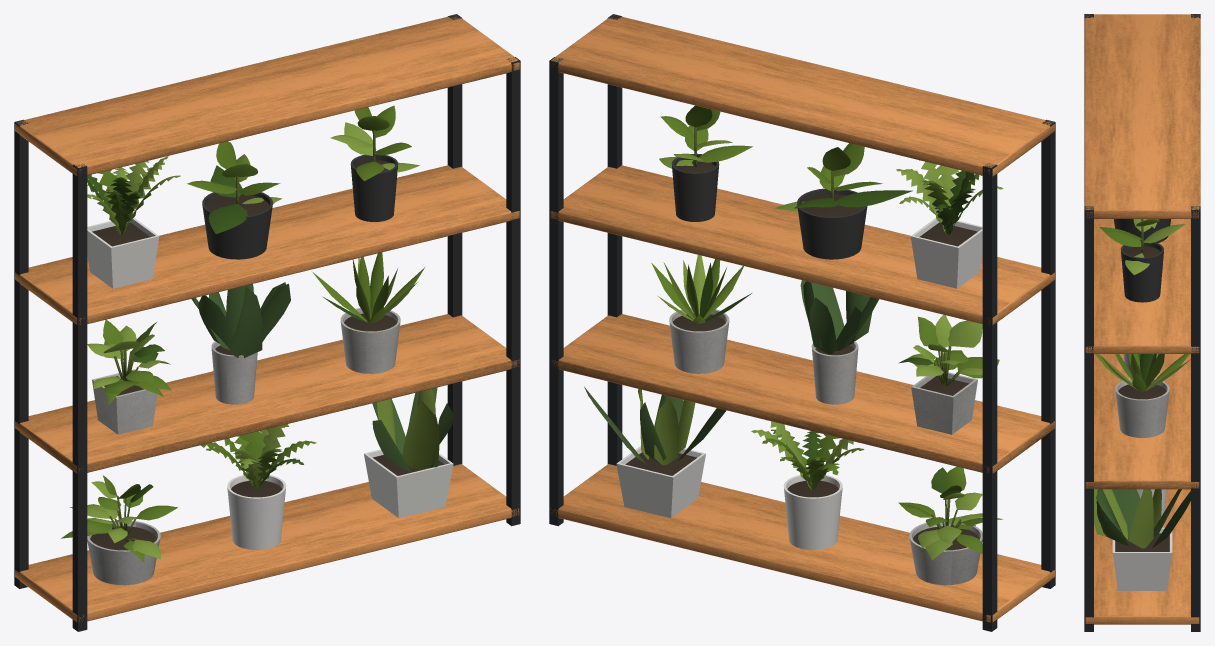
The model's file is greenery.modular-planter-shelf.glb.
3 views of the same model, side by side, from view 1: azimuth 30°, elevation 25°; view 2: azimuth 150°, elevation 25°; view 3: azimuth 270°, elevation 25° (orthographic). The views are drawn at different scales.
Visible parts, largest first — view 1: greenery.modular-planter-shelf.001; view 2: greenery.modular-planter-shelf.001; view 3: greenery.modular-planter-shelf.001.
Part boxes in pixels (x1,y1,x2,y2): greenery.modular-planter-shelf.001: (14,14,520,631); greenery.modular-planter-shelf.001: (549,14,1055,631); greenery.modular-planter-shelf.001: (1084,14,1200,631).
Size of the model in its own units: 1.2 by 1.2 by 0.3.
Materials: 11 (2 with a texture image).
